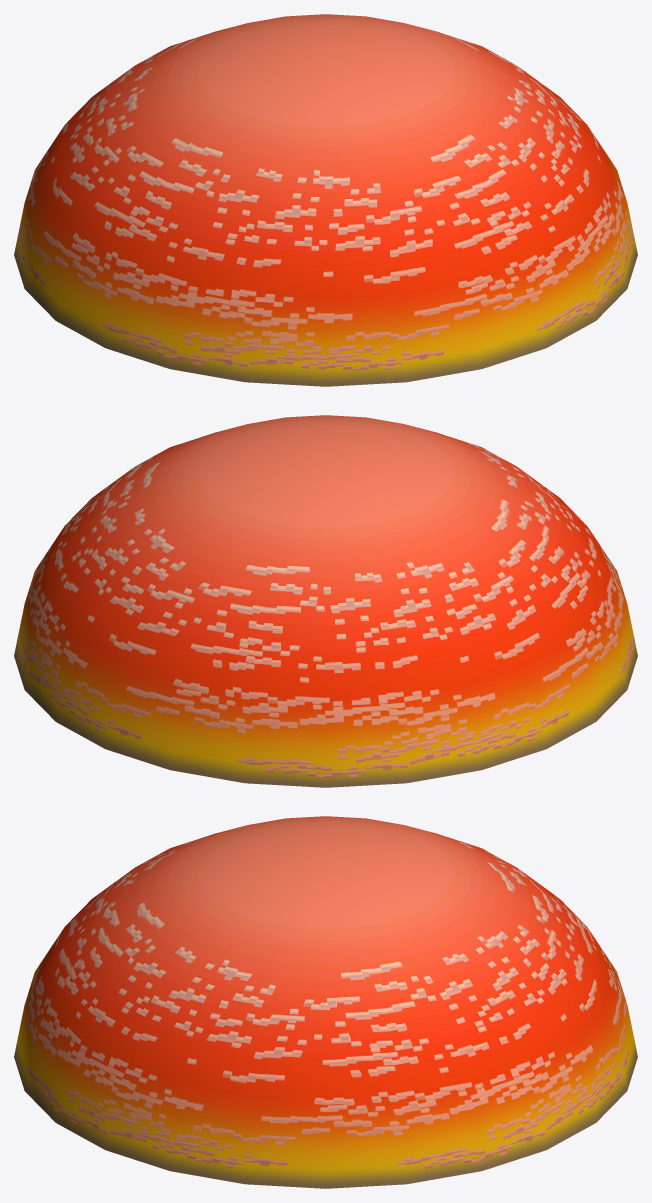
File: sky_02 #1244514.fbx
3 views of the same model, one above another, from view 1: azimuth 30°, elevation 25°; view 2: azimuth 150°, elevation 25°; view 3: azimuth 270°, elevation 25° (orthographic).
Visible parts, largest first — view 1: sky_02; view 2: sky_02; view 3: sky_02.
Part boxes in pixels (x1=…): sky_02: x1=14, y1=14, x2=637, y2=386; sky_02: x1=14, y1=415, x2=637, y2=787; sky_02: x1=14, y1=816, x2=637, y2=1188.
Bounding box in the file's own units: 2106 × 752 × 2106.
